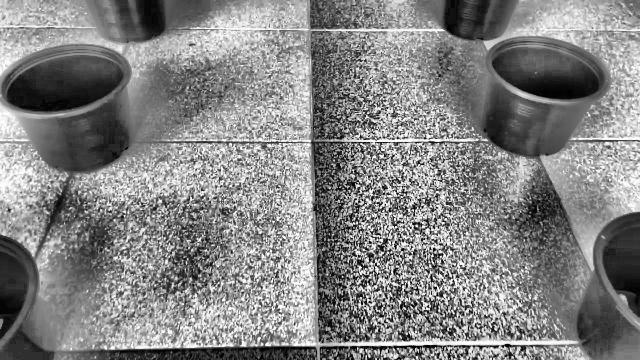pot: (0, 44, 136, 174), (481, 36, 612, 158)
